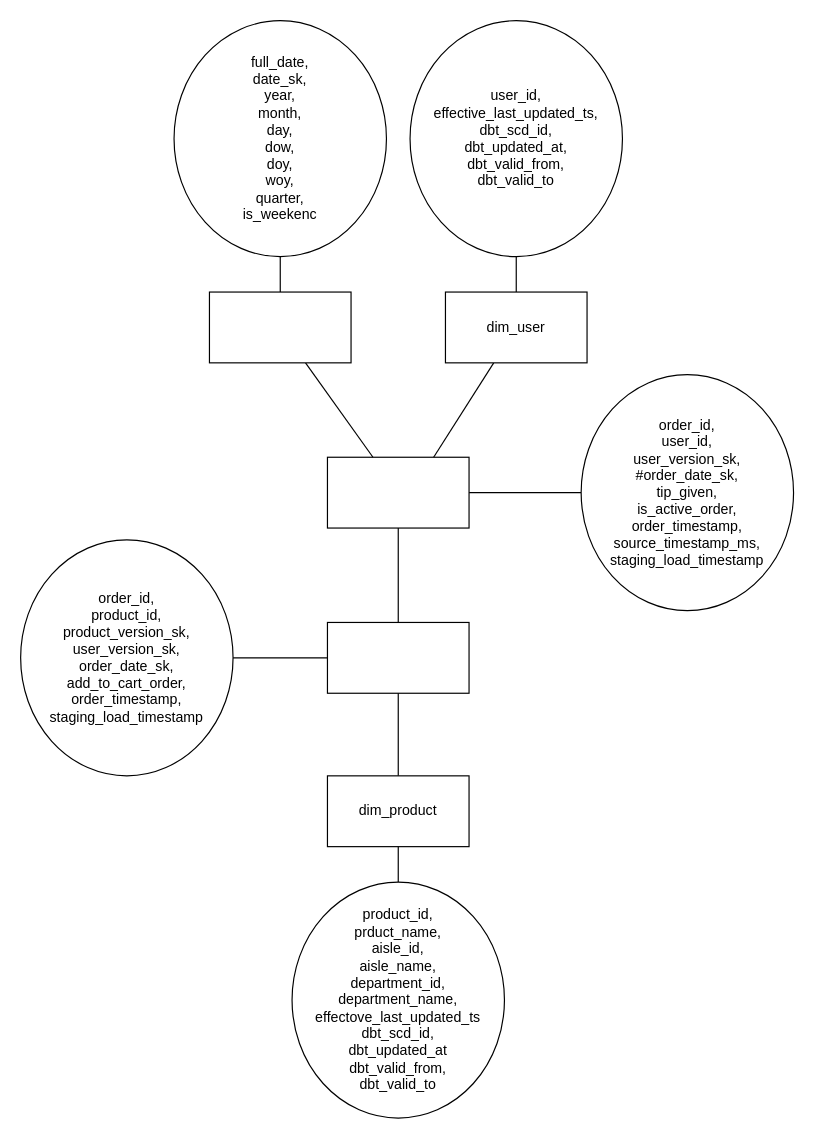
Some shapes in this 814 by 1139 pixel diagram are drawn without their labels. Here are the shapes that lost their labels. From the top down, the box of each, then its label:
(208, 291, 351, 363): dim_date
(326, 456, 469, 528): f_orders
(326, 621, 469, 693): f_orders_lines
